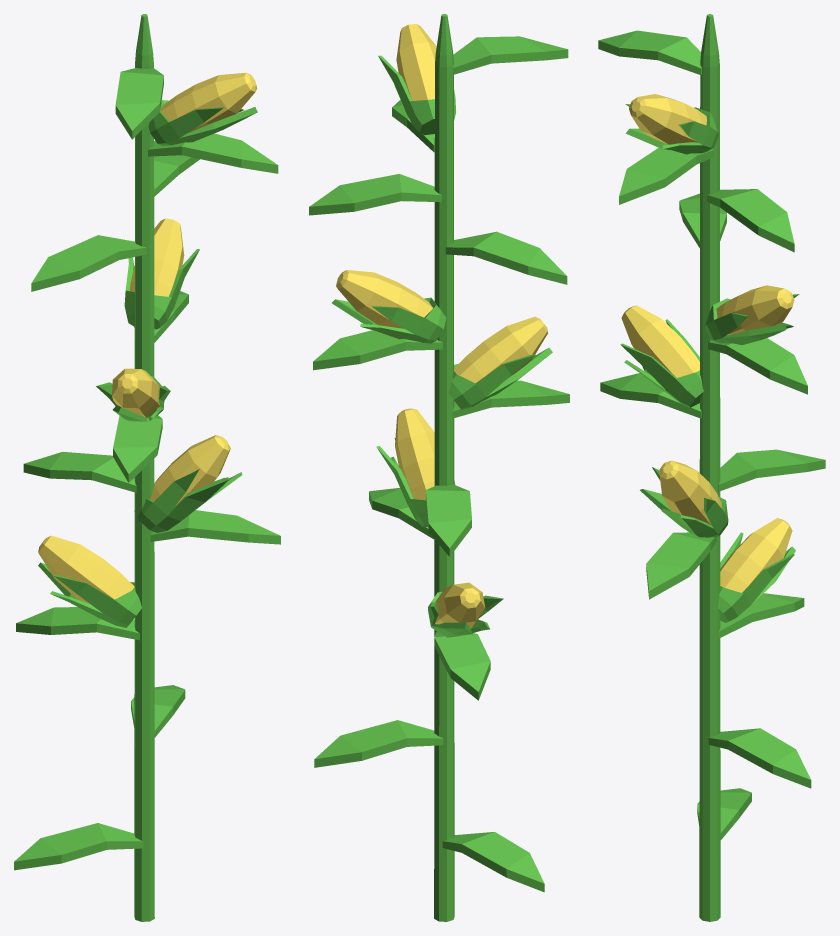
File: corn_flowering.fbx
The picture shows the model from 3 angles, left to right: view 1: azimuth 30°, elevation 25°; view 2: azimuth 150°, elevation 25°; view 3: azimuth 270°, elevation 25°; orthographic projection.
Visible parts, largest first — view 1: corn_flowering; view 2: corn_flowering; view 3: corn_flowering.
Boxes of the visible parts, x1,y1,x2,y2 form: corn_flowering: (14, 14, 280, 921); corn_flowering: (309, 14, 569, 921); corn_flowering: (598, 14, 825, 921).
Size of the model in its own units: 55.02 by 212 by 48.36.
